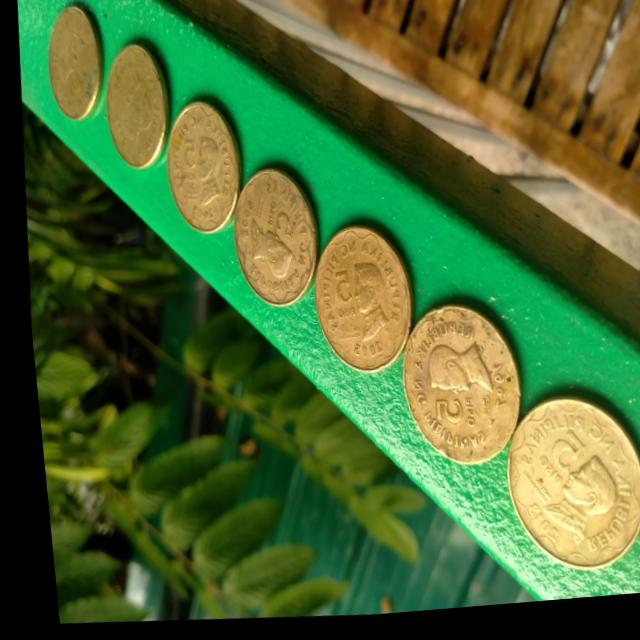5_Old_Front: (309, 248, 402, 367), (405, 337, 494, 451), (232, 178, 307, 300), (161, 115, 231, 234)
